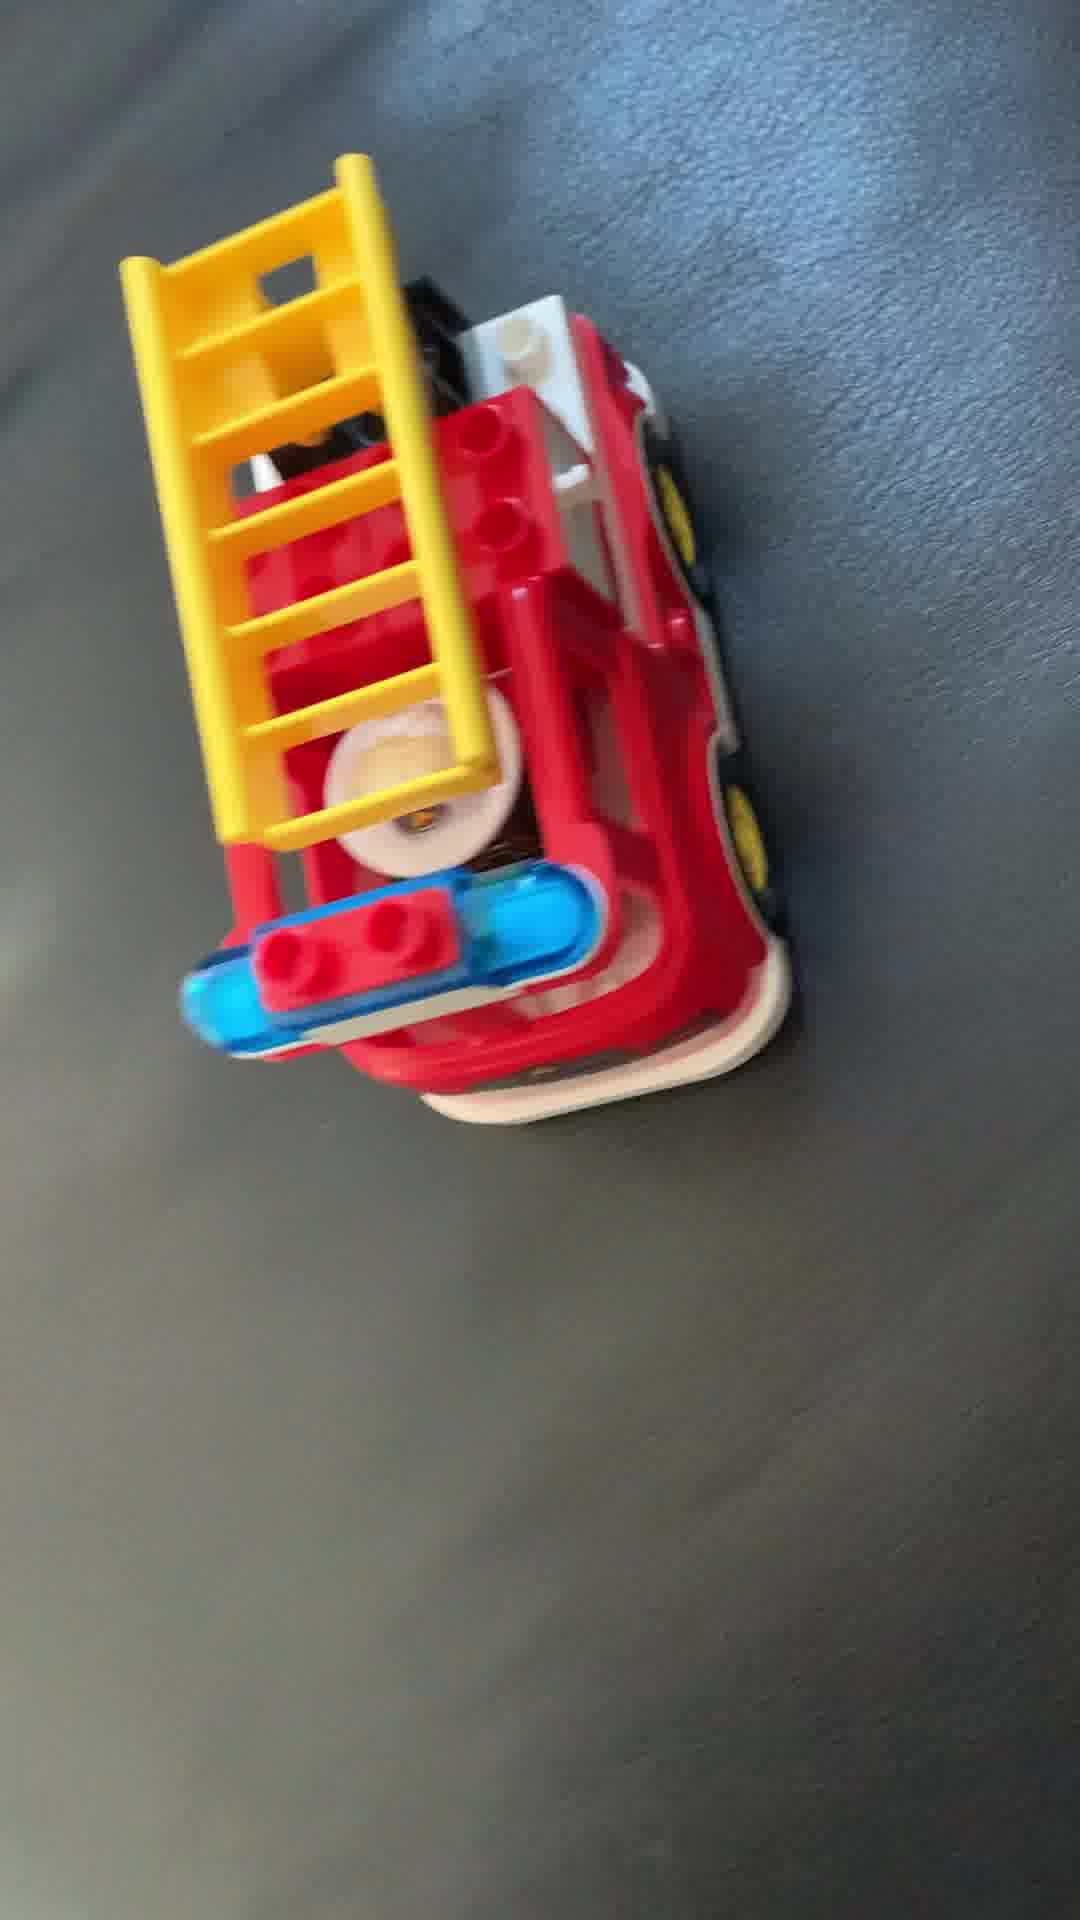lego fire truck: (102, 152, 808, 1149)
